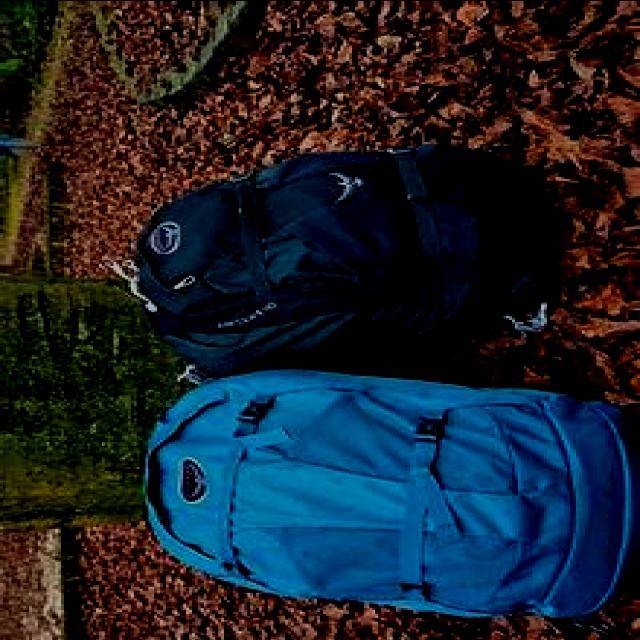backpack: (141, 367, 639, 624), (130, 144, 560, 384)
